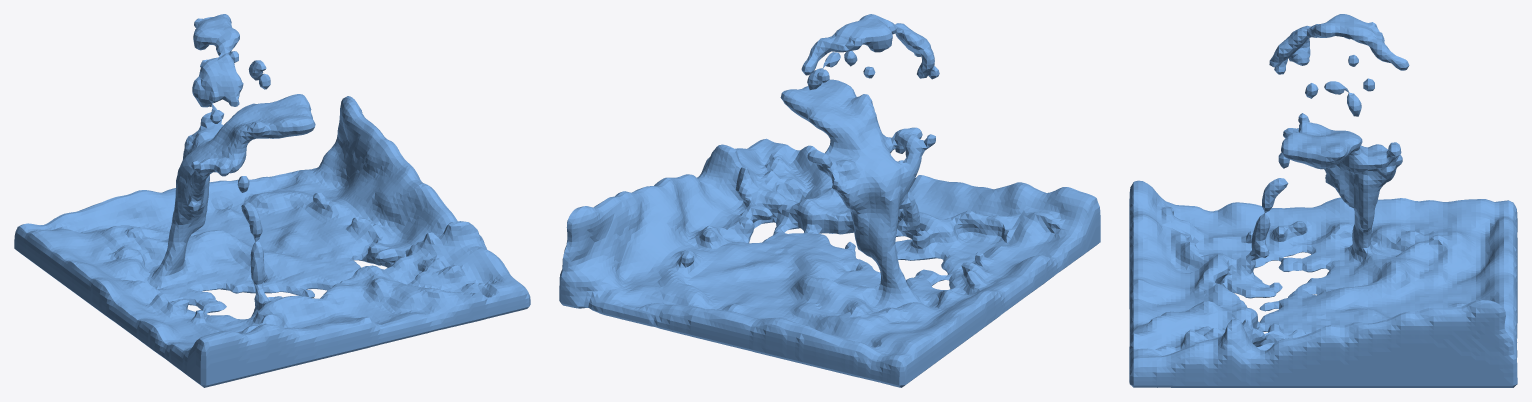
Rendered from water_0099.glb.
The picture shows the model from 3 angles, left to right: view 1: azimuth 30°, elevation 25°; view 2: azimuth 150°, elevation 25°; view 3: azimuth 270°, elevation 25°; orthographic projection. The views are drawn at different scales.
Parts seen in each view (by area): view 1: Water_0099; view 2: Water_0099; view 3: Water_0099.
Boxes of the visible parts, left/top/right/bottom form: Water_0099: left=14, top=14, right=530, bottom=387; Water_0099: left=559, top=14, right=1100, bottom=387; Water_0099: left=1129, top=14, right=1517, bottom=387.
Bounding box in the file's own units: 4.83 × 3.62 × 4.83.
